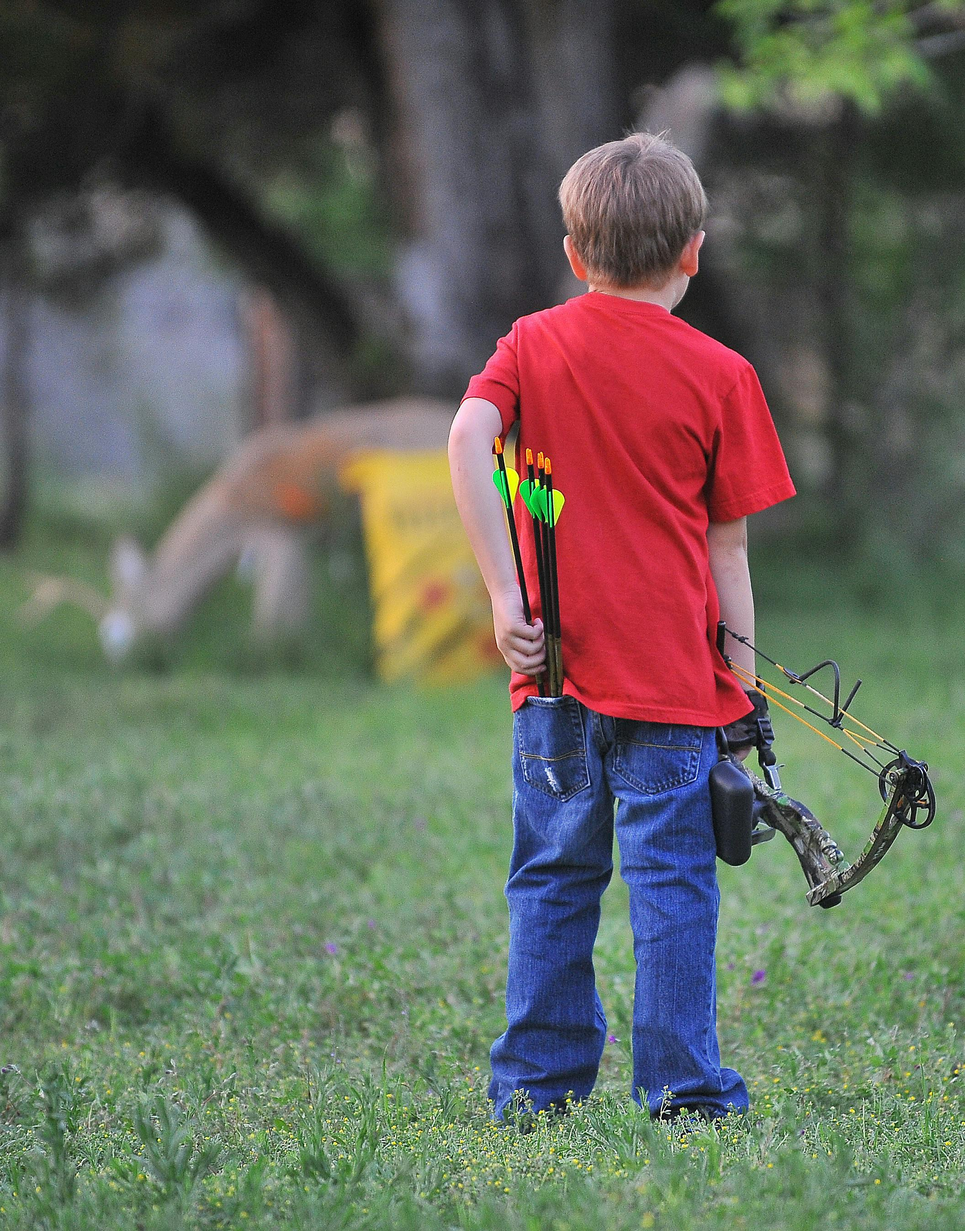Human: (431, 129, 829, 1111)
